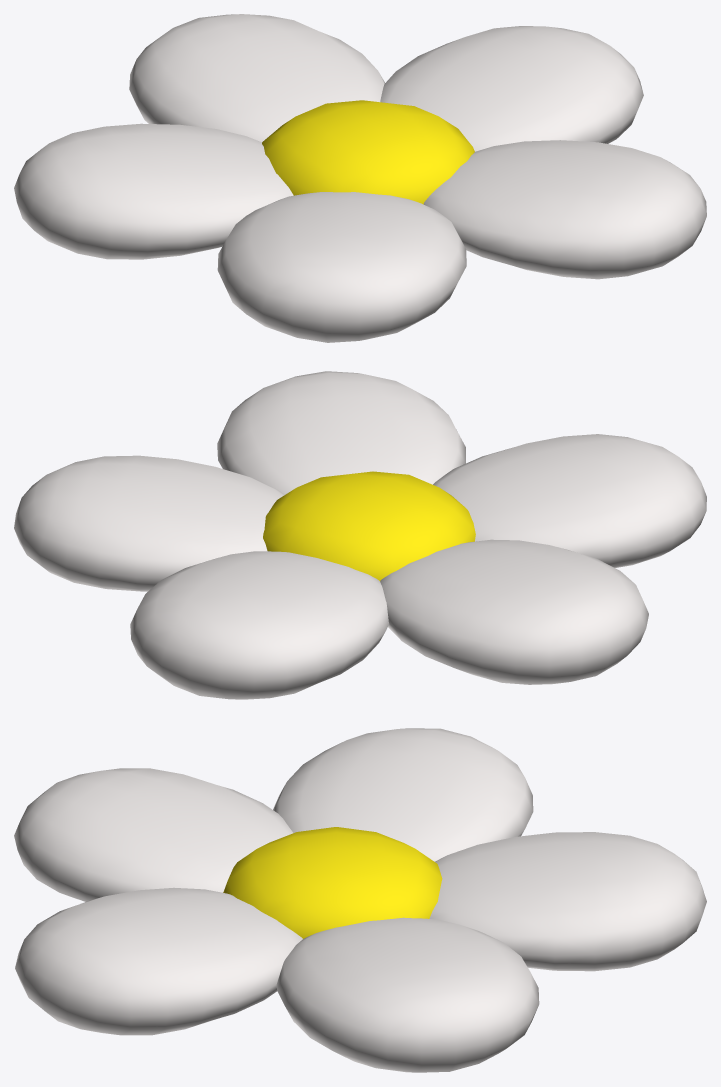
File: Town_3_Pillow_flower_1.glb
3 views of the same model, one above another, from view 1: azimuth 30°, elevation 25°; view 2: azimuth 150°, elevation 25°; view 3: azimuth 270°, elevation 25° (orthographic). The views are drawn at different scales.
Visible parts, largest first — view 1: Town_3_Pillow_flower_1; view 2: Town_3_Pillow_flower_1; view 3: Town_3_Pillow_flower_1.
Part boxes in pixels (left/top/right/bottom): Town_3_Pillow_flower_1: left=14, top=14, right=706, bottom=342; Town_3_Pillow_flower_1: left=14, top=371, right=706, bottom=699; Town_3_Pillow_flower_1: left=14, top=728, right=706, bottom=1072.
Size of the model in its own units: 0.6331 by 0.0959 by 0.6118.
Materials: 1 (1 with a texture image).
